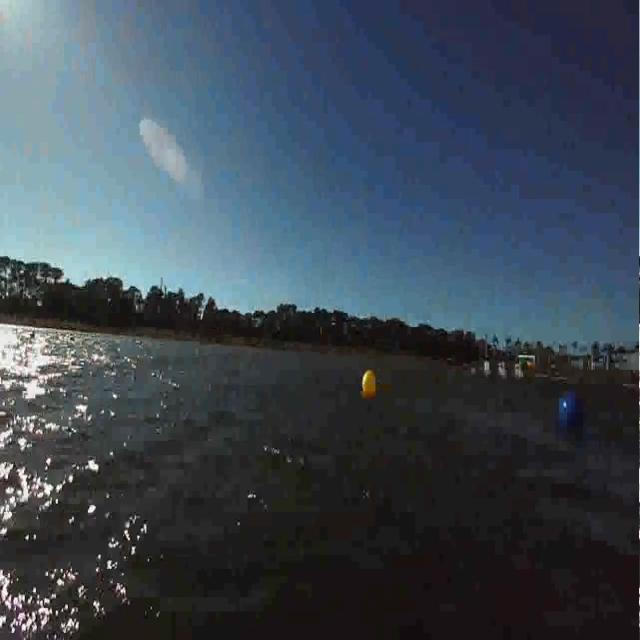blue-buoy: (557, 392, 586, 438)
yellow-buoy: (361, 370, 375, 400)
